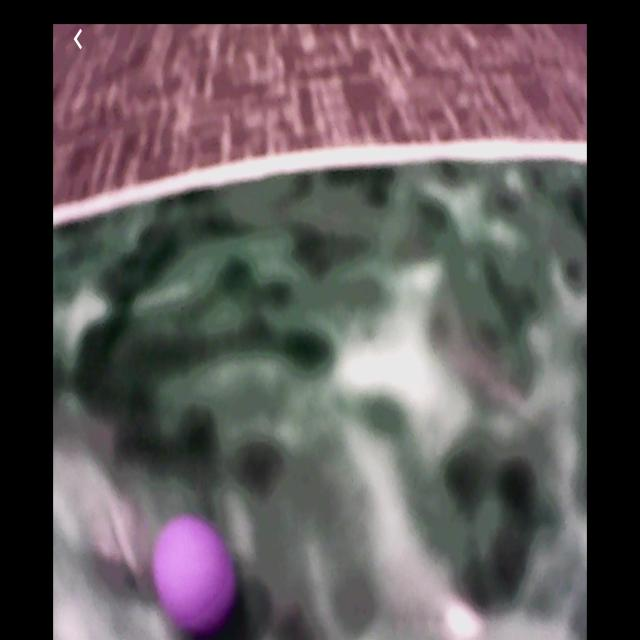ball: (154, 517, 238, 636)
